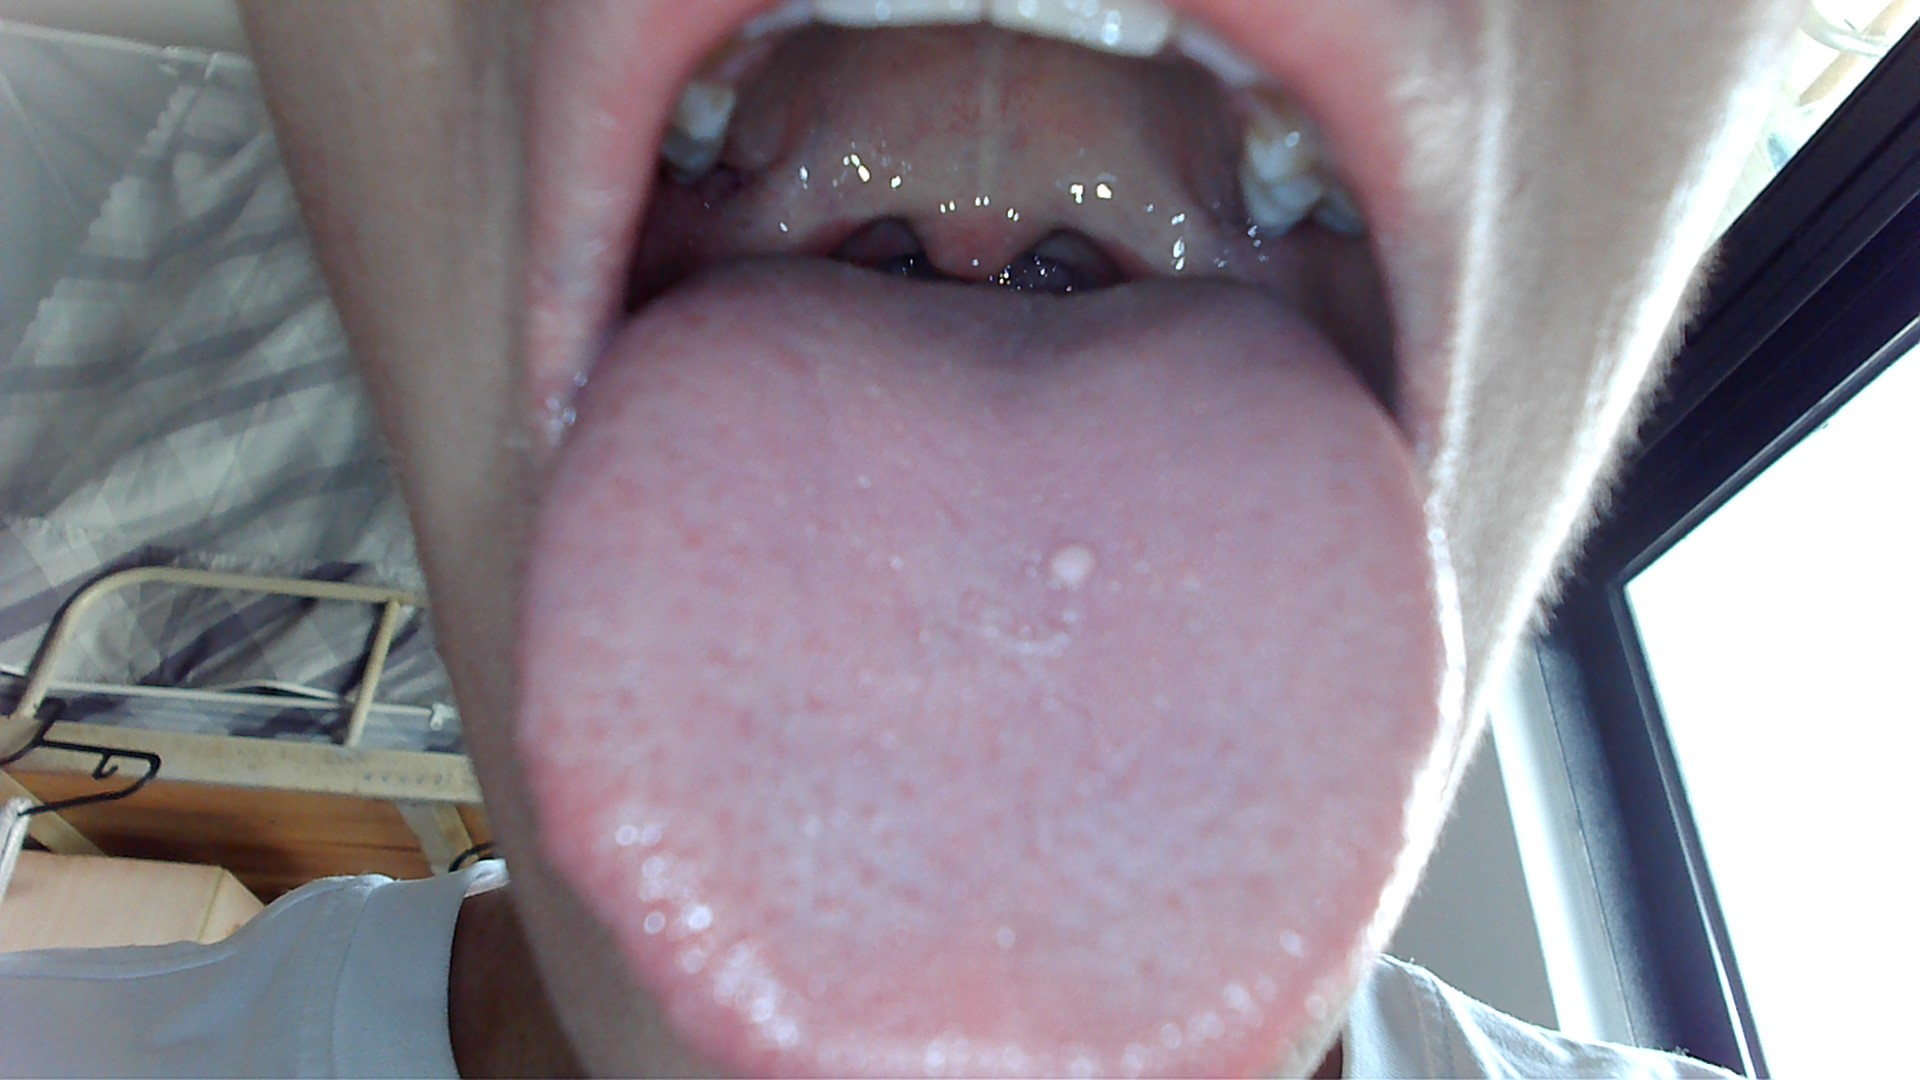throat: (1095, 204, 1226, 280), (742, 193, 866, 260)
